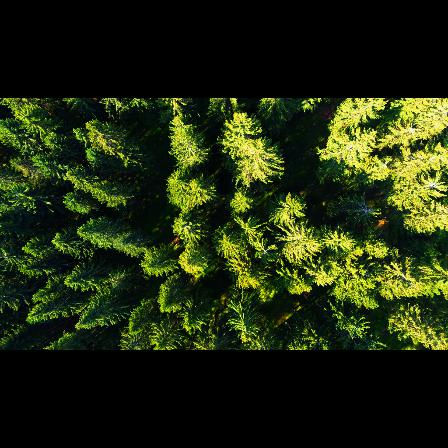Sick: (351, 189, 385, 228), (255, 239, 276, 261)
